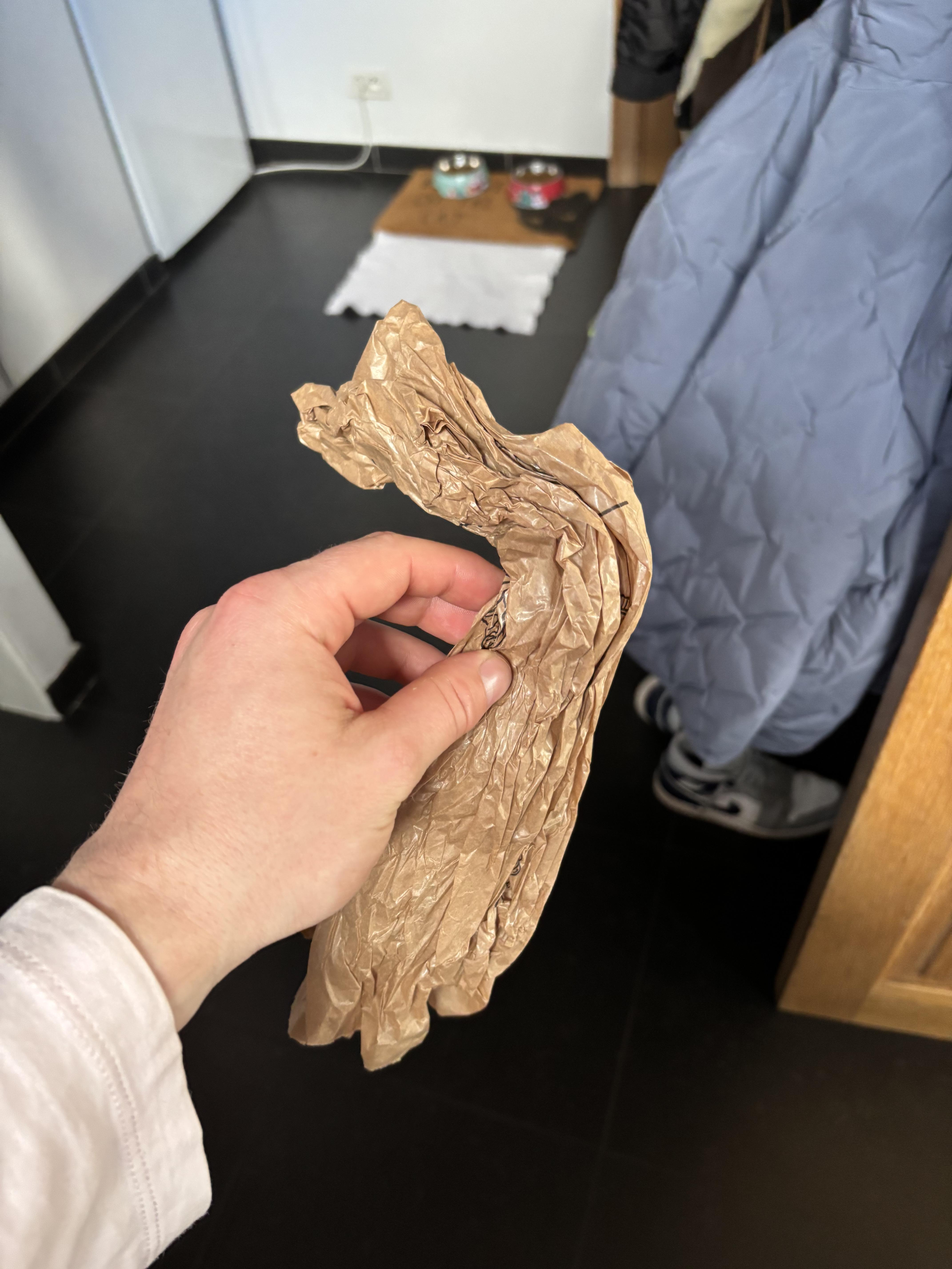Paper: (278, 289, 654, 1086)
